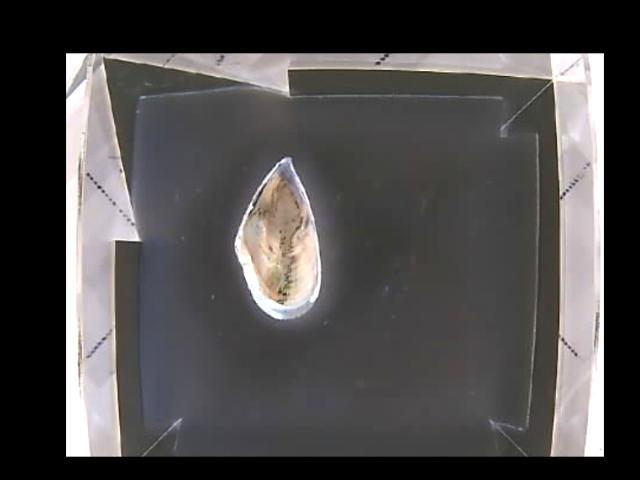Shell: (235, 155, 321, 319)
